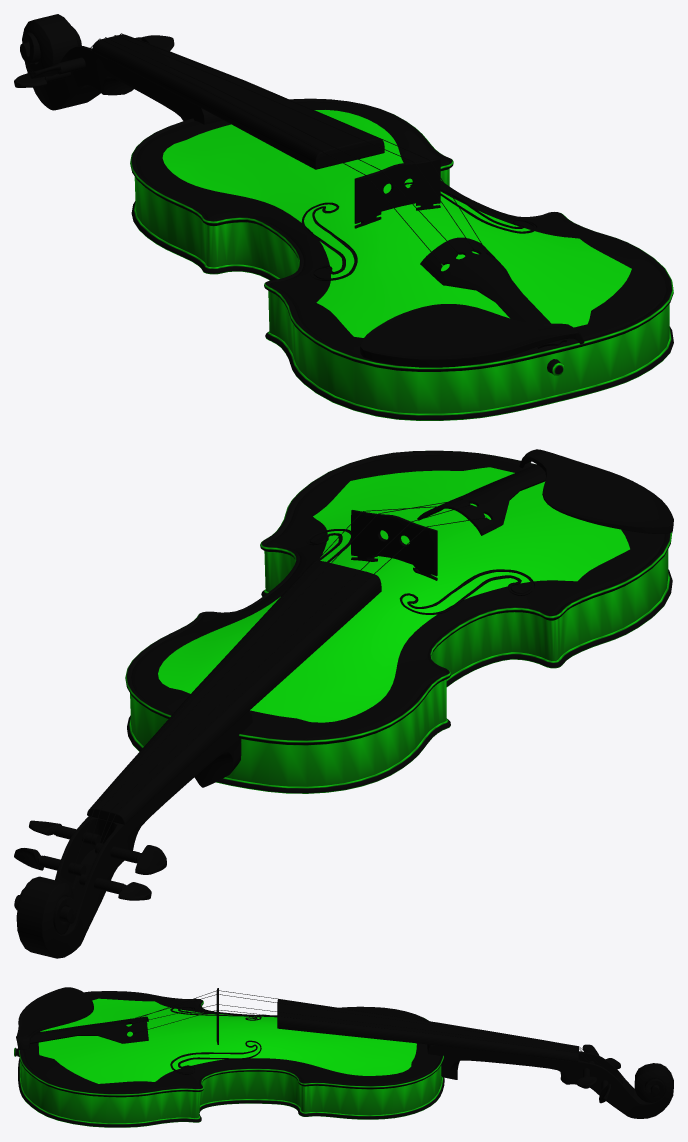
File: Violino_MESH.fbx
3 views of the same model, one above another, from view 1: azimuth 30°, elevation 25°; view 2: azimuth 150°, elevation 25°; view 3: azimuth 270°, elevation 25° (orthographic). The views are drawn at different scales.
Visible parts, largest first — view 1: Violin_Mesh; view 2: Violin_Mesh; view 3: Violin_Mesh.
Part boxes in pixels (x1,y1,x2,y2): Violin_Mesh: [14, 14, 673, 420]; Violin_Mesh: [14, 449, 673, 958]; Violin_Mesh: [14, 987, 673, 1127].
Bounding box in the file's own units: 34.19 × 17.81 × 91.67.
